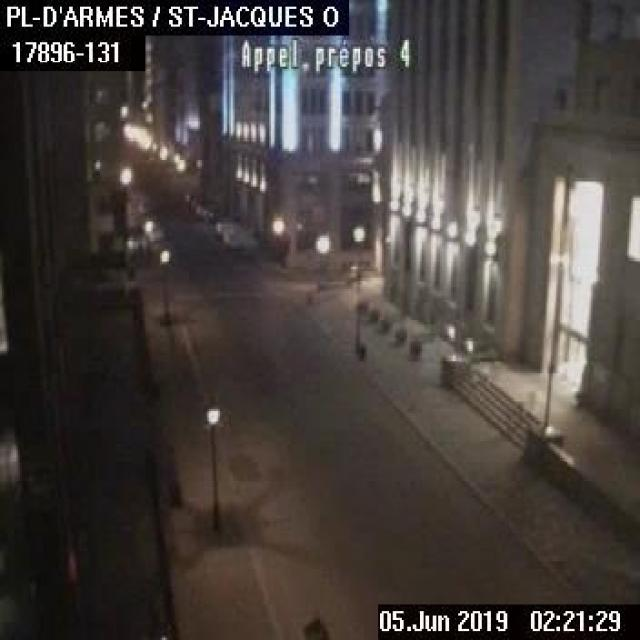vehicle: (220, 224, 246, 249), (213, 216, 234, 235)
